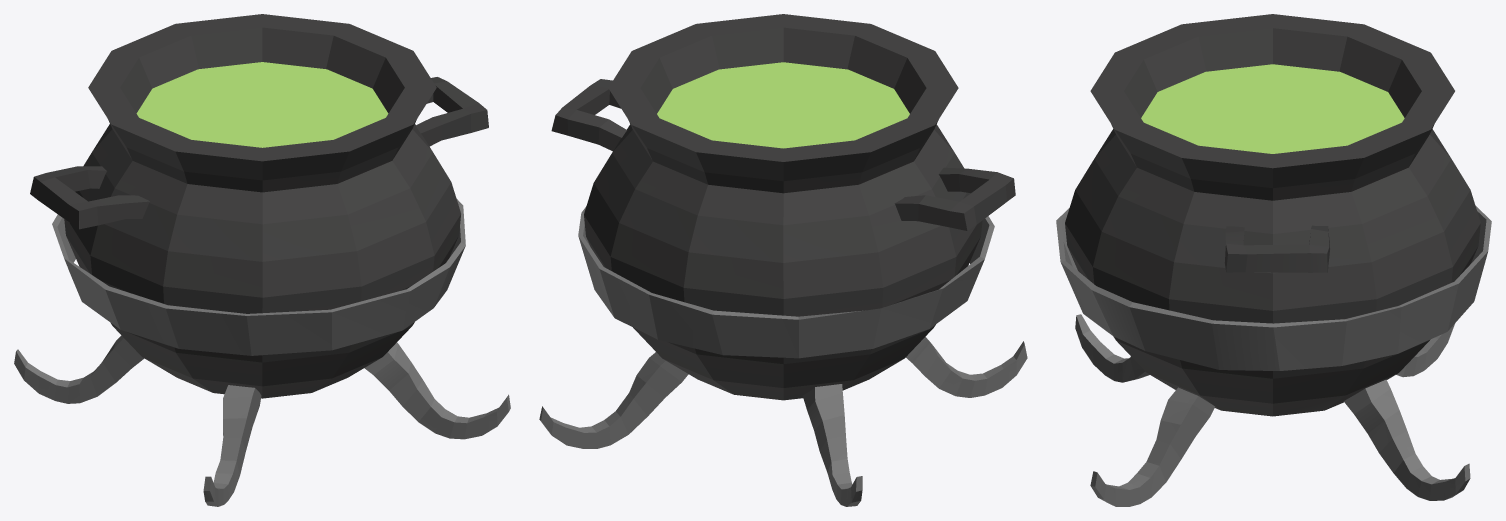
Rendered from cauldron.fbx.
3 views of the same model, side by side, from view 1: azimuth 30°, elevation 25°; view 2: azimuth 150°, elevation 25°; view 3: azimuth 270°, elevation 25° (orthographic). The views are drawn at different scales.
Visible parts, largest first — view 1: finish.002; view 2: finish.002; view 3: finish.002.
Boxes of the visible parts, box(x1,y1,x2,y2) form: finish.002: box(14, 14, 510, 506); finish.002: box(539, 14, 1027, 506); finish.002: box(1056, 14, 1491, 506).
Size of the model in its own units: 321 by 246 by 280.
